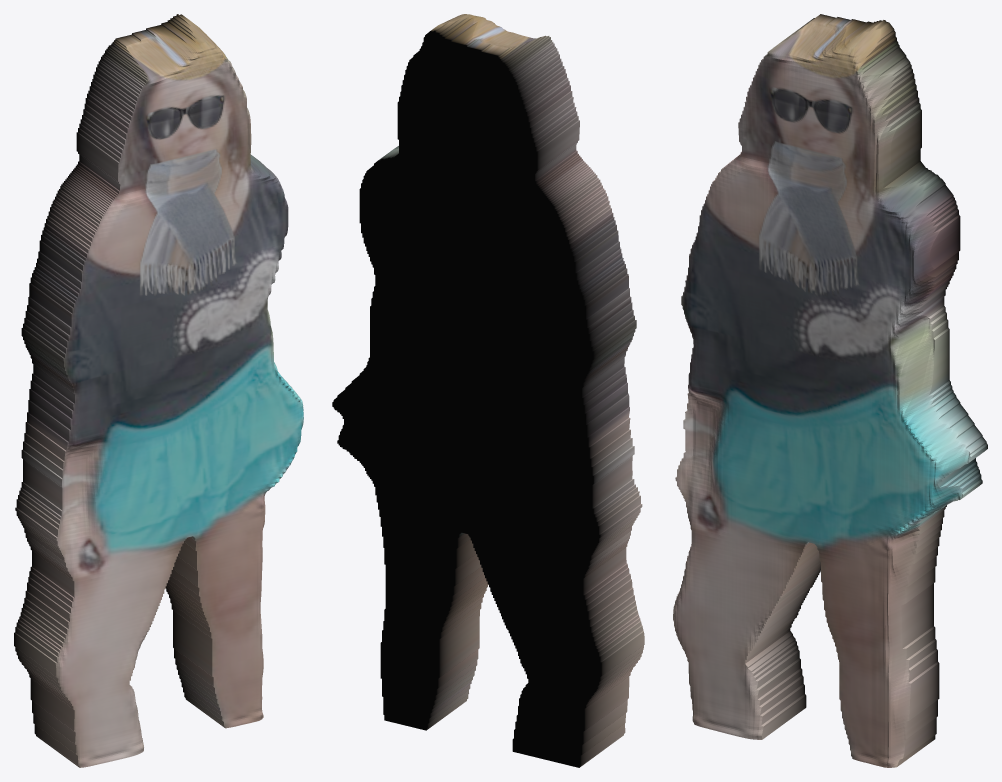
File: avatar_20260310_223923.glb
3 views of the same model, side by side, from view 1: azimuth 30°, elevation 25°; view 2: azimuth 150°, elevation 25°; view 3: azimuth 330°, elevation 25° (orthographic). The views are drawn at different scales.
Parts seen in each view (by area): view 1: world; view 2: world; view 3: world.
Boxes of the visible parts, box(x1,y1,x2,y2) form: world: box(14, 14, 303, 767); world: box(332, 14, 644, 767); world: box(673, 14, 987, 767).
Size of the model in its own units: 0.5271 by 1.31 by 0.1569.
